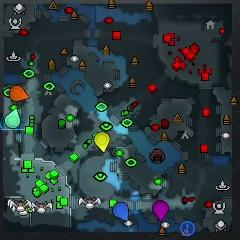Other: (180, 220, 196, 236)
p1: (113, 201, 128, 220)
p2: (5, 108, 21, 129)
p3: (152, 200, 169, 220)
p4: (95, 132, 111, 151)
p5: (9, 85, 29, 101)
